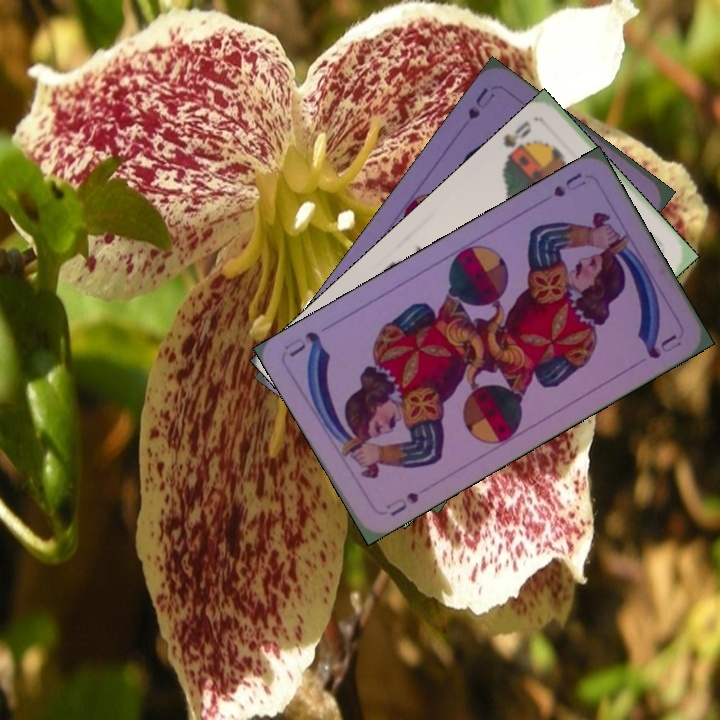SO: (499, 116, 534, 169)
SU: (464, 83, 497, 122), (549, 168, 589, 200), (381, 488, 421, 519)
